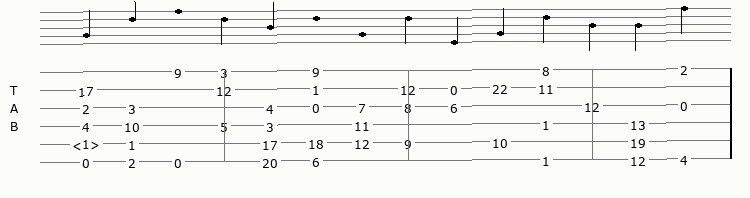0: (82, 154, 94, 167), (174, 154, 186, 167), (312, 100, 324, 113), (450, 82, 462, 95), (680, 100, 692, 113)
1: (128, 136, 140, 149), (312, 82, 324, 95), (542, 154, 554, 167), (542, 118, 554, 131)
10: (124, 118, 144, 131), (492, 136, 512, 149)
11: (354, 118, 374, 131), (538, 82, 558, 95)
12: (216, 82, 236, 95), (354, 136, 374, 149), (400, 82, 420, 95), (584, 100, 604, 113), (630, 154, 650, 167)
13: (630, 118, 650, 131)
17: (78, 82, 98, 95), (262, 136, 282, 149)
18: (308, 136, 328, 149)
19: (630, 136, 650, 149)
2: (82, 100, 94, 113), (128, 154, 140, 167), (680, 64, 692, 77)
20: (262, 154, 282, 167)
22: (492, 82, 512, 95)
3: (128, 100, 140, 113), (220, 64, 232, 77), (266, 118, 278, 131)
4: (82, 118, 94, 131), (266, 100, 278, 113), (680, 154, 692, 167)
5: (220, 118, 232, 131)
6: (312, 154, 324, 167), (450, 100, 462, 113)
7: (358, 100, 370, 113)
8: (404, 100, 416, 113), (542, 64, 554, 77)
9: (174, 64, 186, 77), (312, 64, 324, 77), (404, 136, 416, 149)
harmonic: (72, 135, 104, 149)
